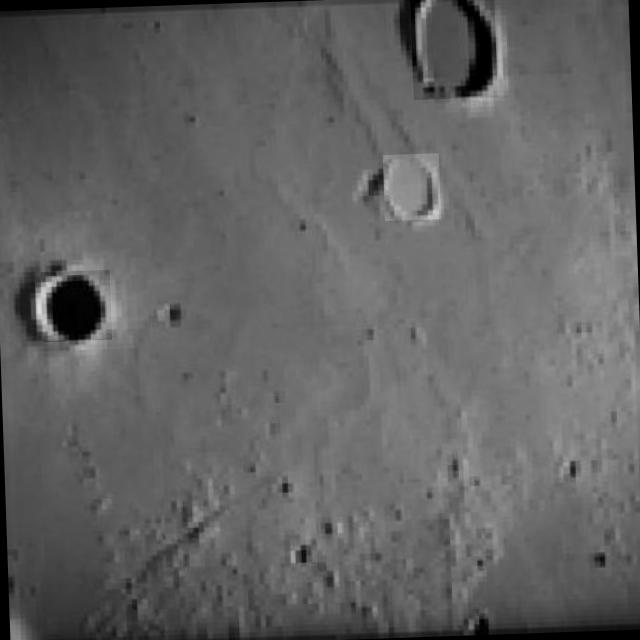crater: (411, 0, 499, 99), (42, 269, 113, 342), (383, 152, 441, 220)
